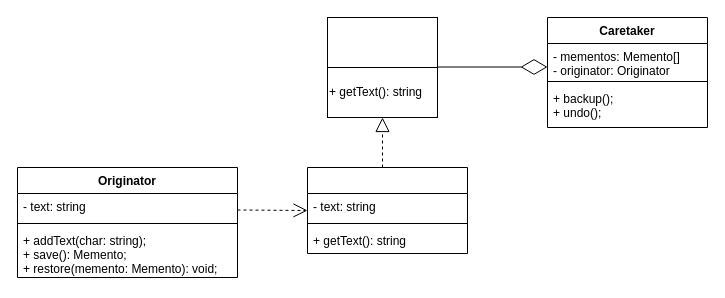
Image size: 725x298. Some labels were removed from this diagram. The shapes that lost their labels are listed below. From the top down, each one's box as (x1, y1, x2, y2) in pixels, then its label:
(326, 16, 438, 68): «interface» Memento
(306, 166, 468, 254): ConcreteMomento
